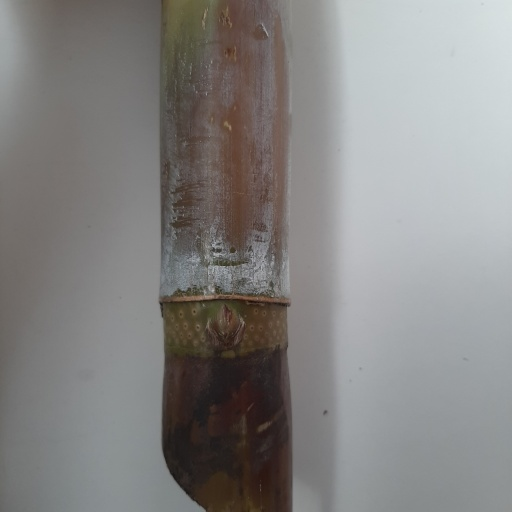Bud: (205, 303, 246, 348)
